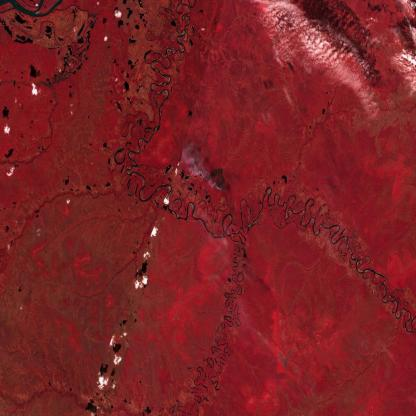fire: (202, 166, 231, 194)
